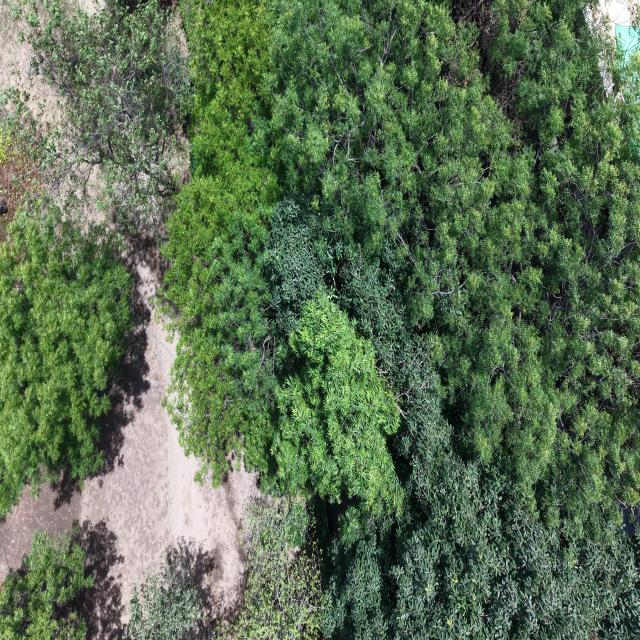DRY_AREA: (0, 240, 256, 638), (0, 247, 255, 638), (599, 0, 638, 58), (599, 0, 632, 39)
VEGETATION_TREE: (159, 0, 639, 639), (165, 0, 639, 637), (165, 0, 638, 534), (258, 0, 639, 522), (0, 0, 191, 513), (0, 2, 190, 513), (163, 4, 322, 490), (322, 403, 639, 639), (163, 0, 285, 482), (266, 200, 419, 515), (16, 0, 191, 233), (0, 202, 131, 513), (0, 201, 130, 510), (272, 292, 402, 513), (215, 497, 322, 639), (224, 498, 322, 639), (0, 527, 94, 639), (0, 532, 93, 639), (125, 554, 202, 639), (0, 113, 42, 241)
